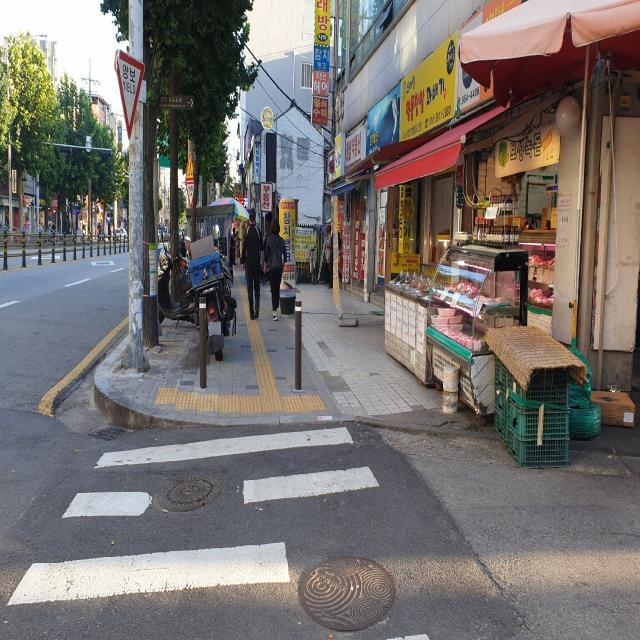횡단보도: (6, 423, 433, 640)
